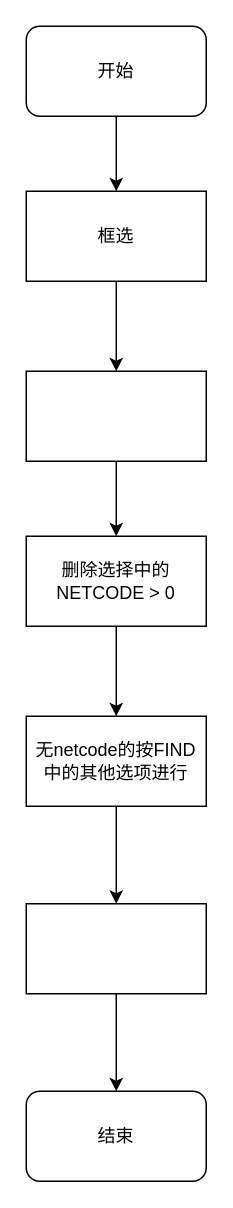
Some shapes in this 233 by 1208 pixel diagram are drawn without their labels. Each missing label, with the centre of its shape:
查找有NETCODE > 0: the point at 115,415
根据NETCODE 插入对应的内容: the point at 115,948
